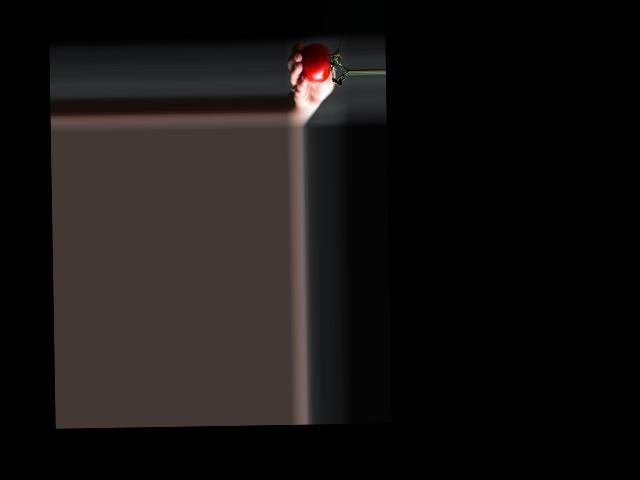tomato: (300, 42, 331, 83)
